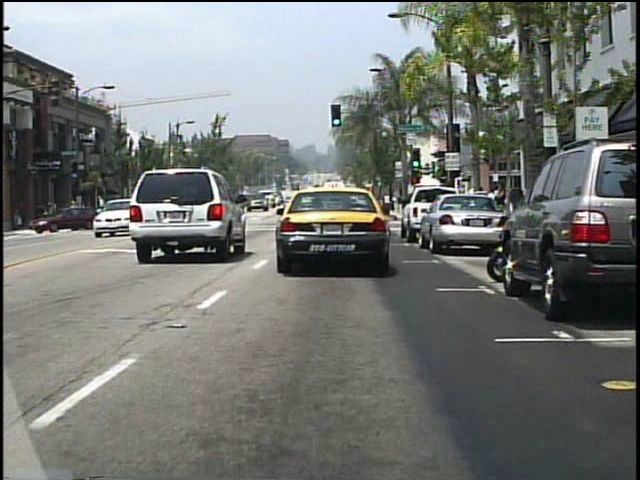person: (490, 183, 508, 230)
